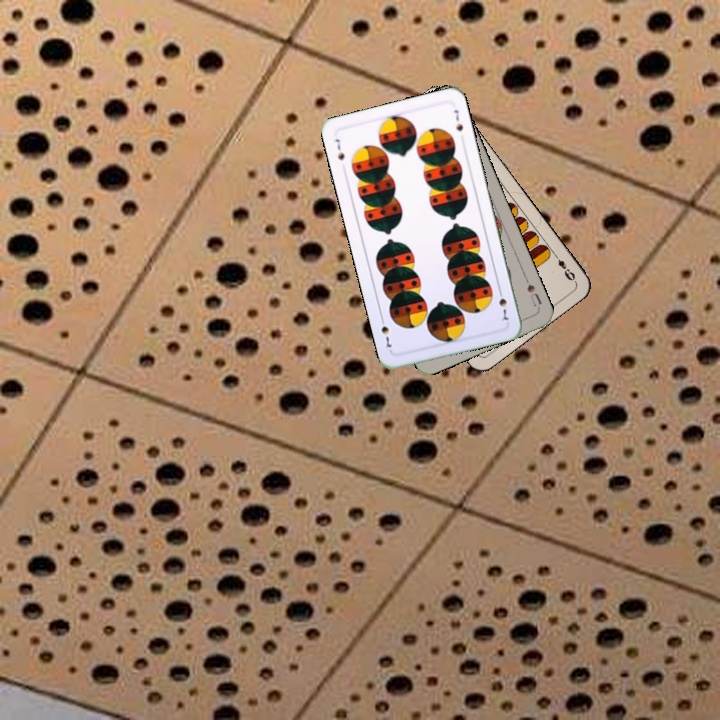E9: (550, 249, 578, 283)
S7: (494, 284, 511, 323), (331, 135, 347, 163)
SU: (520, 273, 544, 311)
